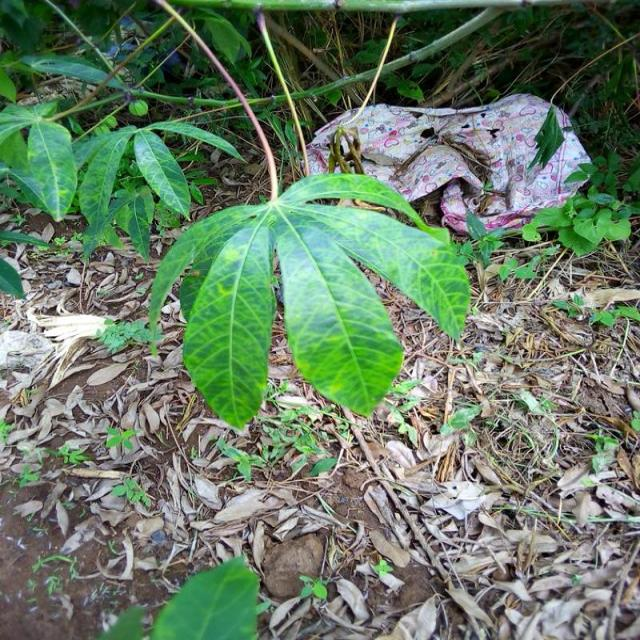cassava leaf: (149, 171, 471, 431), (275, 212, 405, 417), (182, 218, 276, 431), (152, 554, 262, 639)
